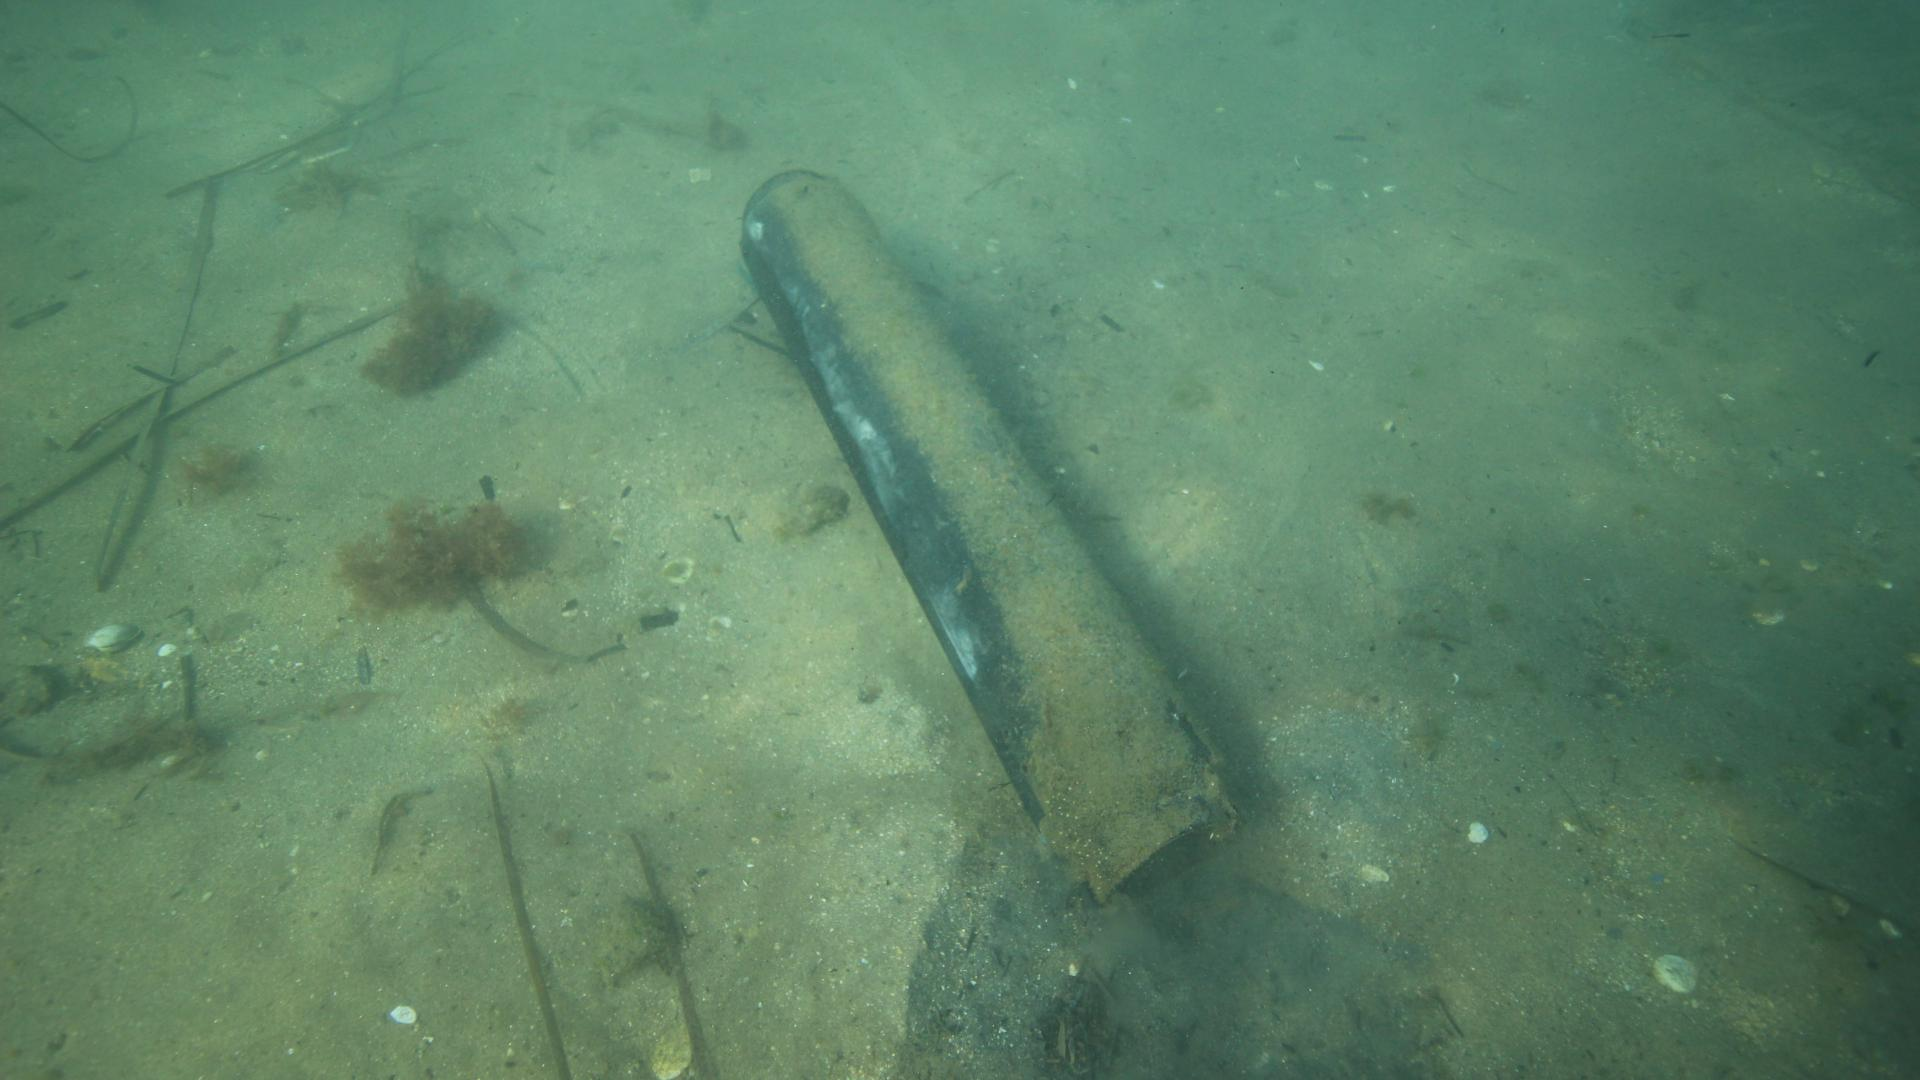eel fish trap: (736, 162, 1244, 906)
